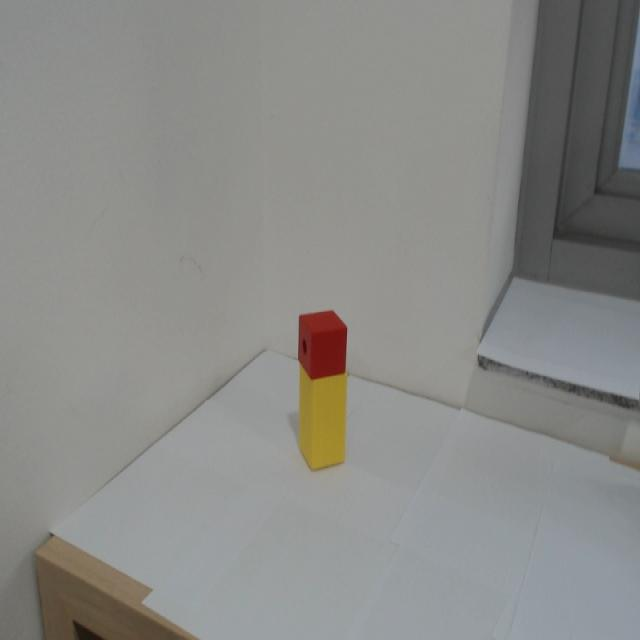cube: (297, 308, 349, 381)
